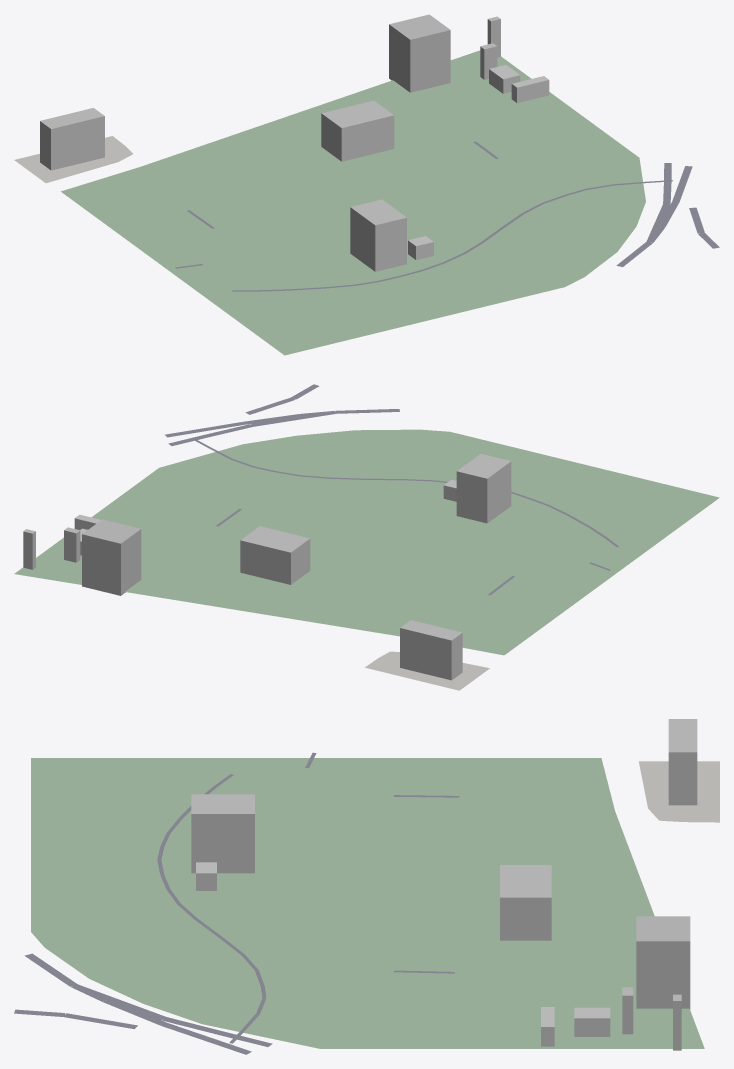
Rendered from 127_80_mid.glb.
3 renders of one model, top to bottom at view 1: azimuth 30°, elevation 25°; view 2: azimuth 150°, elevation 25°; view 3: azimuth 270°, elevation 25°, orthographic. The views are drawn at different scales.
Size of the model in its own units: 525 by 56.63 by 512.
